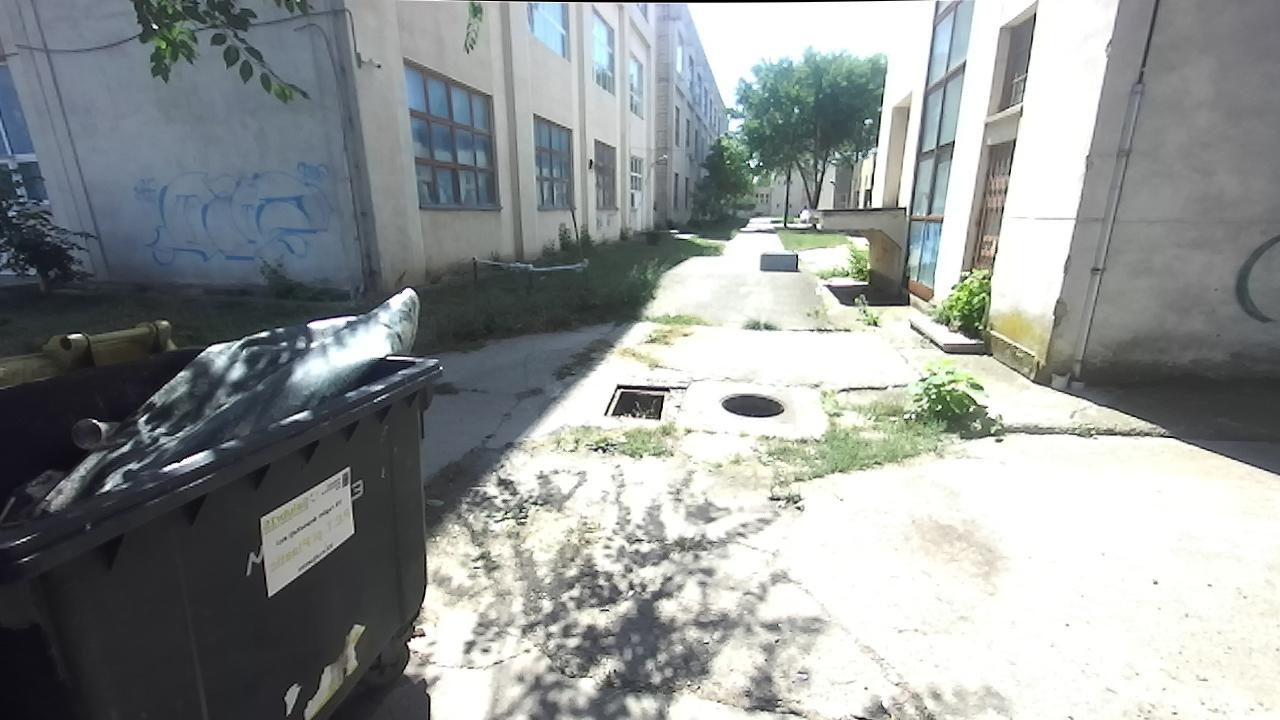drain: (600, 382, 673, 419), (715, 390, 788, 420)
